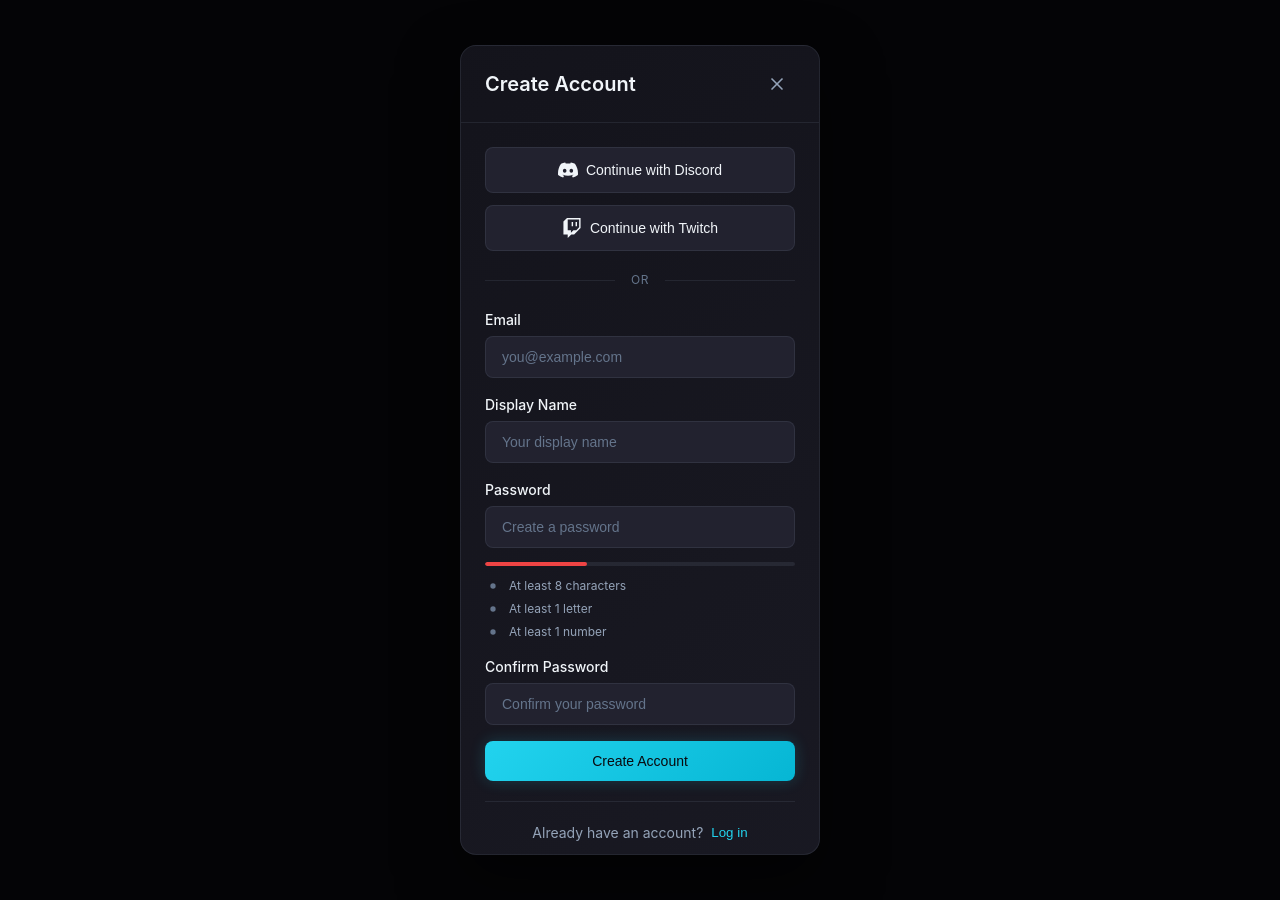
SignupModal Component › should display inline validation errors on blur
Note: Enter invalid email and blur
Type "invalid" into the field with test id "signup-email-input" at (640, 357), box [485, 336, 795, 378]
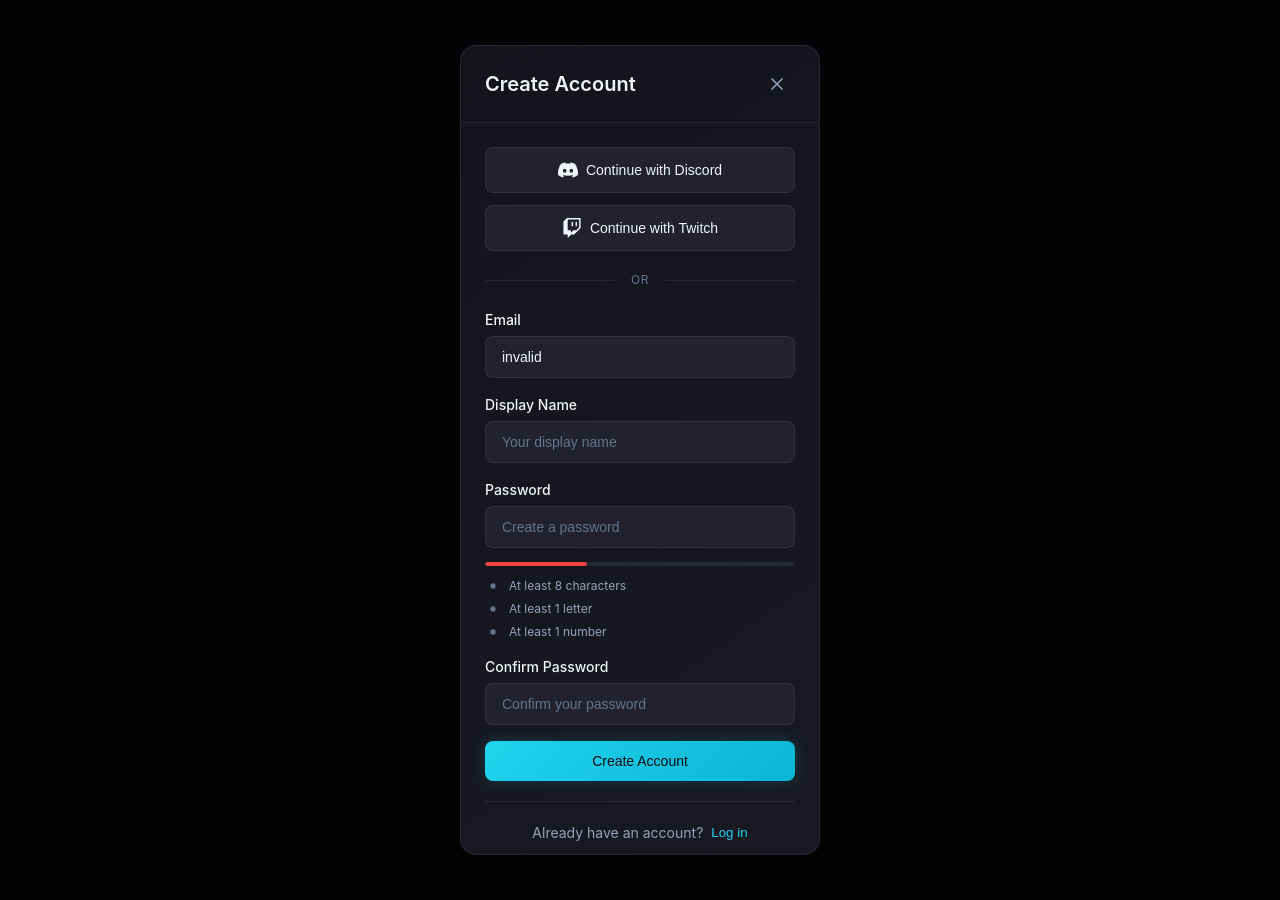
Leave the field with test id "signup-email-input", box [485, 336, 795, 378]
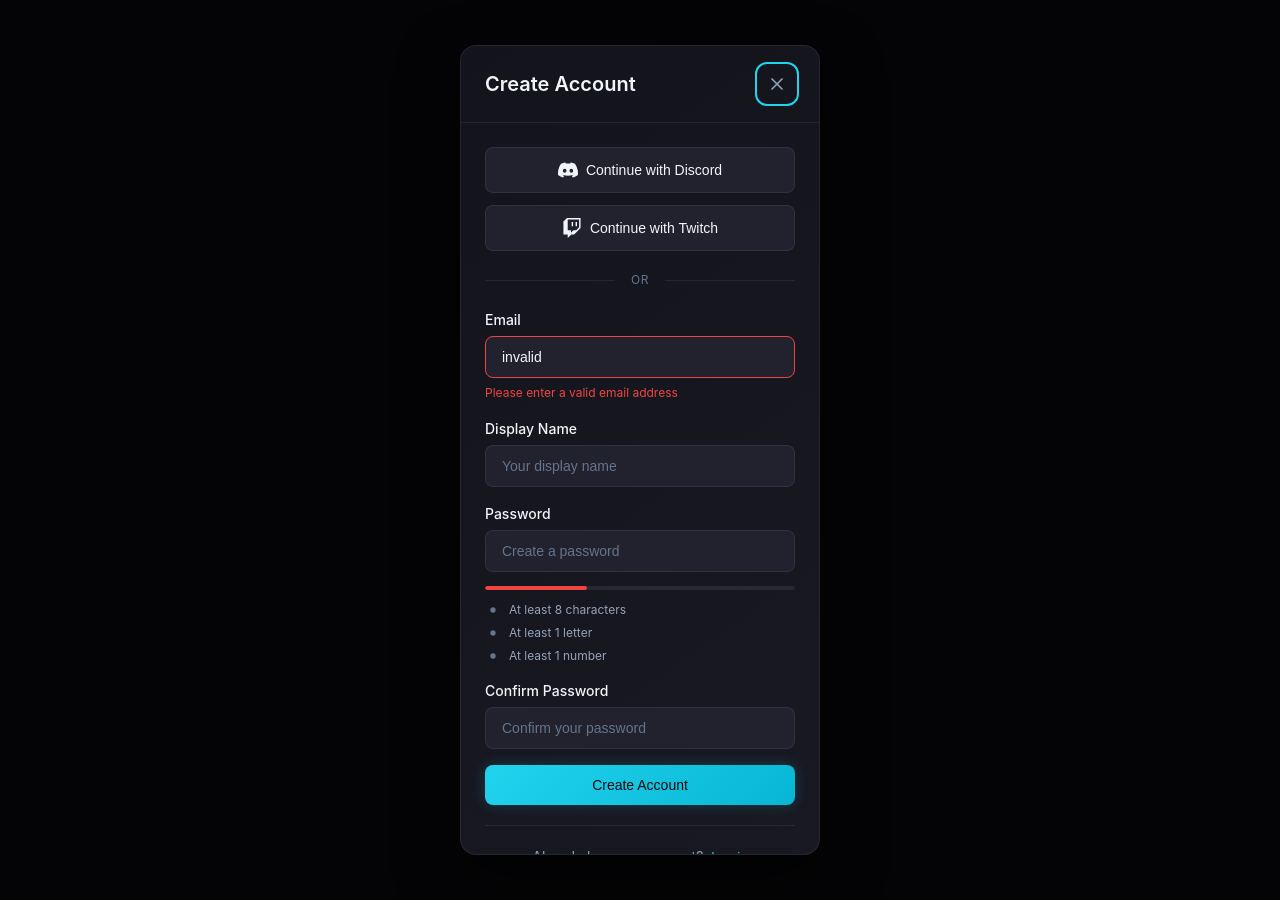
Expected: the text "Please enter a valid email address" is shown, [485, 385, 678, 400]
